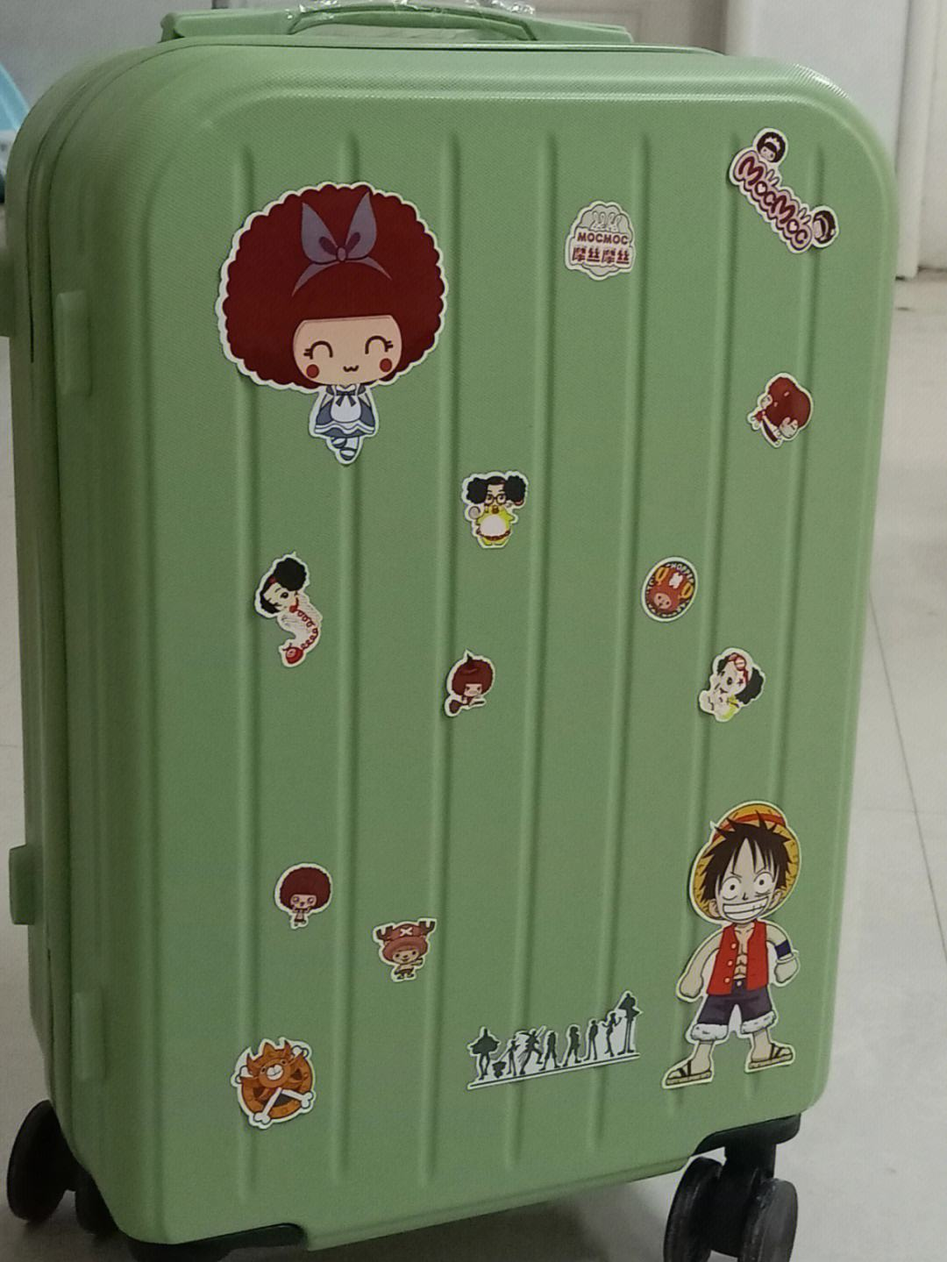box: (5, 40, 894, 1253)
handle: (159, 2, 621, 41)
wheel: (5, 1099, 112, 1235), (661, 1157, 798, 1262)
